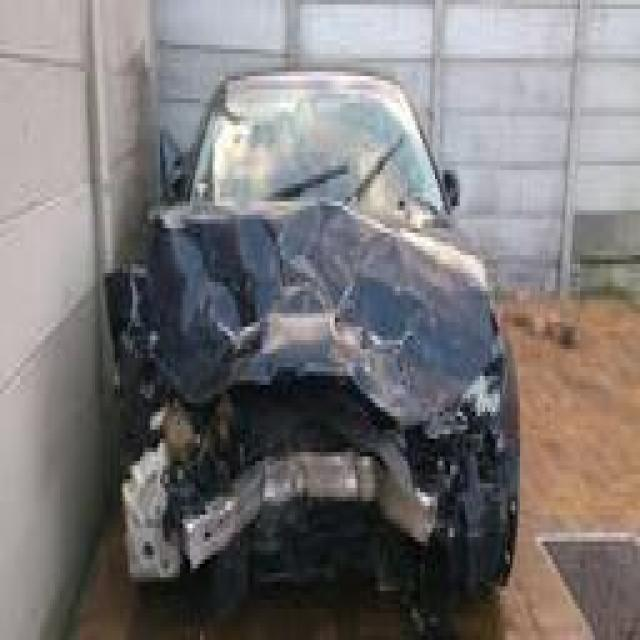Bonnet: (139, 192, 505, 436)
Bumper: (123, 380, 526, 627)
Light: (429, 345, 511, 474), (125, 345, 199, 465)
